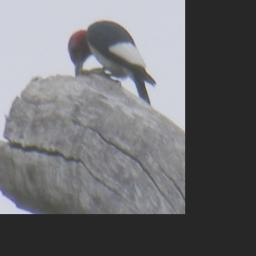Woodpecker: (64, 17, 160, 108)
